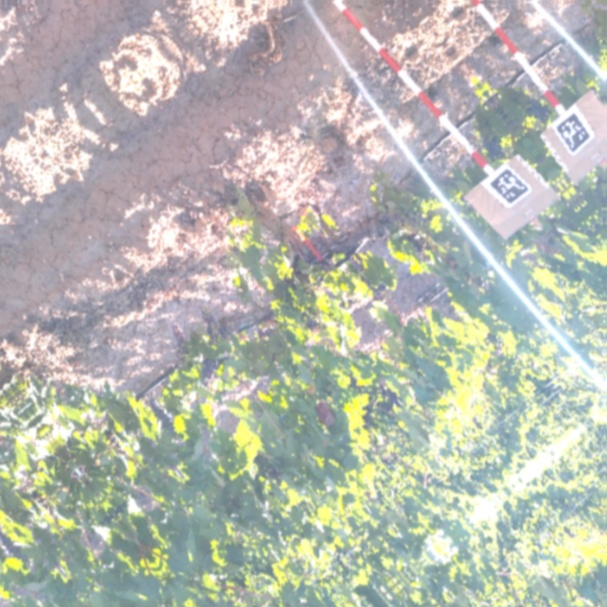QR: (493, 165, 530, 203)
